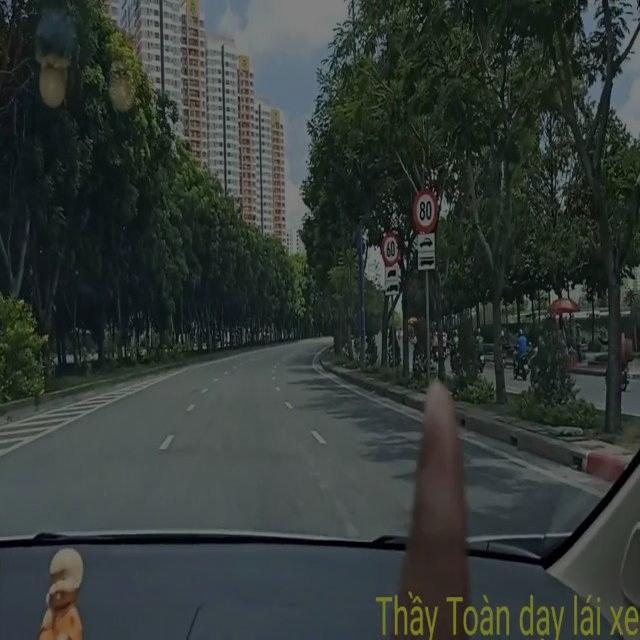Biển phụ: (415, 229, 434, 267), (384, 265, 401, 296)
Giới hạn tốc độ: 60Km/h: (378, 228, 402, 264)
Giới hạn tốc độ: 80Km/h: (412, 183, 438, 232)
